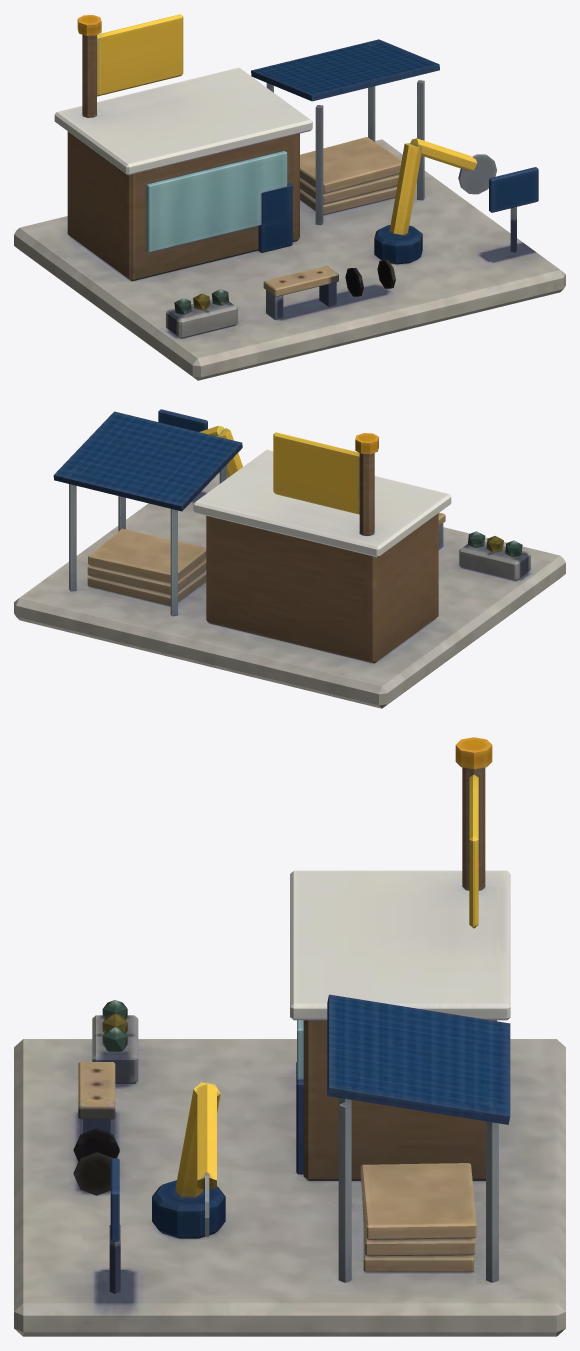
Rendered from lumberyard-30.glb.
The picture shows the model from 3 angles, top to bottom: view 1: azimuth 30°, elevation 25°; view 2: azimuth 150°, elevation 25°; view 3: azimuth 270°, elevation 25°; orthographic projection. The views are drawn at different scales.
Visible parts, largest first — view 1: lumberyard-30; view 2: lumberyard-30; view 3: lumberyard-30.
Boxes of the visible parts, x1,y1,x2,y2 form: lumberyard-30: (14, 14, 565, 380); lumberyard-30: (14, 409, 565, 708); lumberyard-30: (14, 737, 565, 1336).
Bounding box in the file's own units: 1.41 × 0.86 × 1.2.
1 material, 1 textured.
